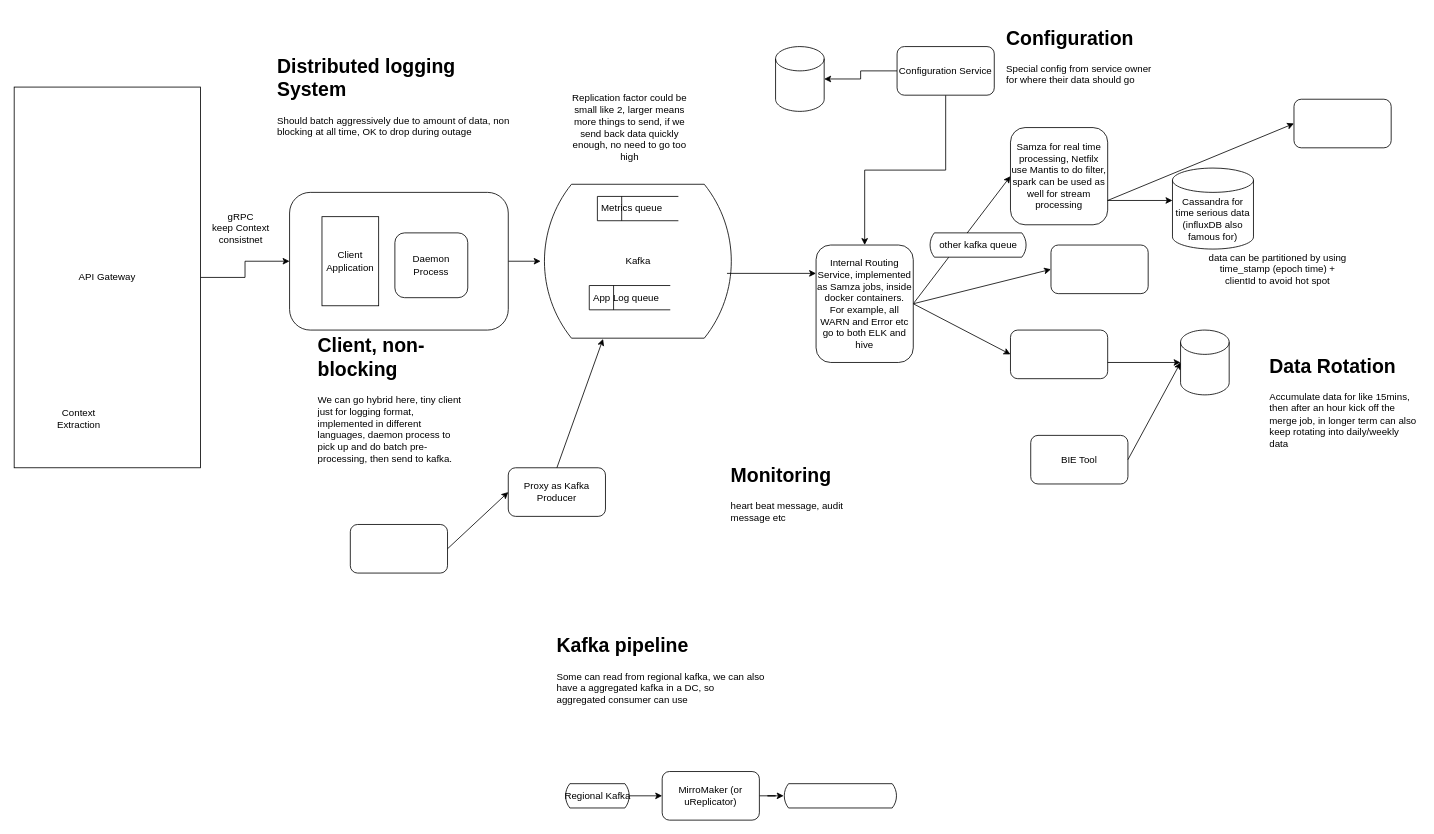
Image size: 1434x834. Some labels were removed from this diagram. The shapes that lost their labels are listed below. From the top down, each one's centre as x and y in pixels, then its label:
At pixel 799 78: "mySql for config".
At pixel 1342 123: "ELK".
At pixel 1099 269: "Alert System".
At pixel 1059 354: "Hadoop for batch processing".
At pixel 1204 362: "Hive".
At pixel 399 548: "Http Client / legacy endpoints".
At pixel 840 795: "Aggregated Kafka".
